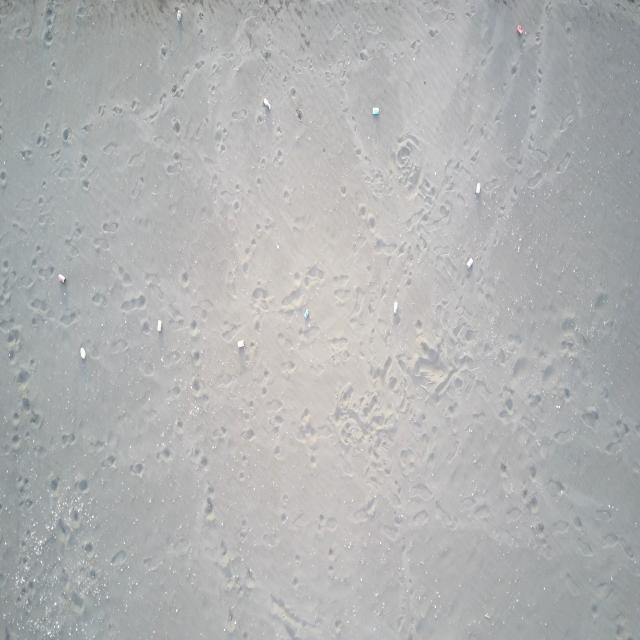Garbage: (263, 96, 271, 110), (515, 24, 524, 35), (57, 273, 64, 283), (392, 300, 397, 313), (303, 307, 308, 319), (466, 258, 472, 268), (80, 347, 85, 359), (475, 181, 480, 193), (236, 340, 243, 348), (372, 107, 379, 115), (176, 9, 180, 22), (156, 320, 160, 332)
